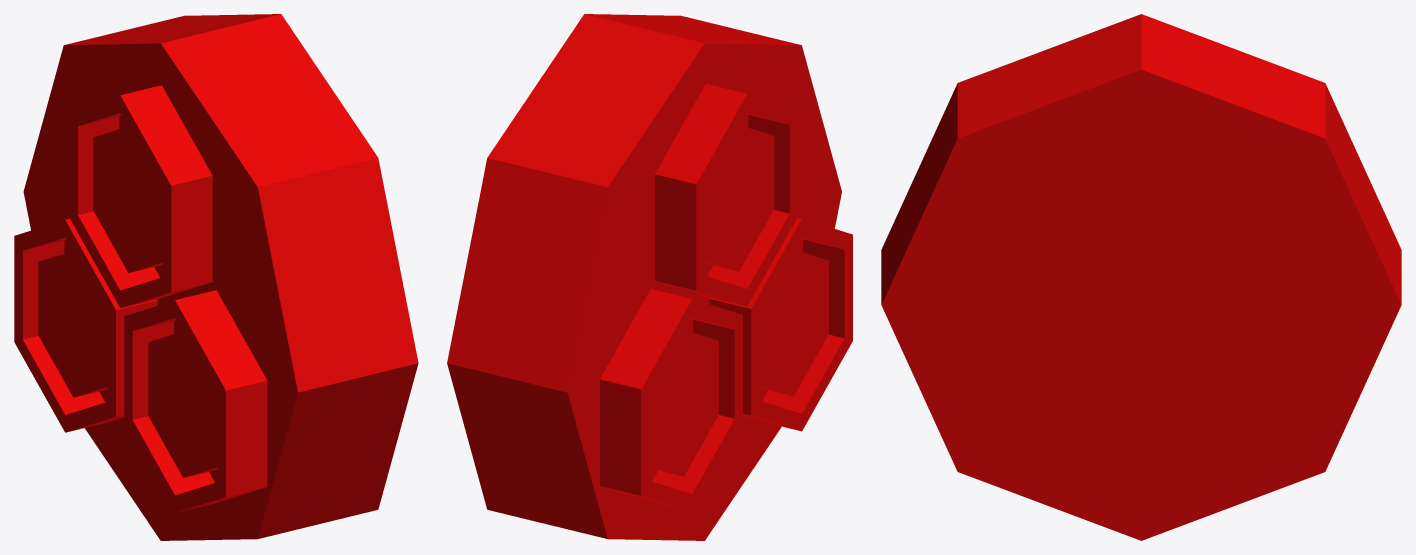
Rendered from outlet_l_1.glb.
The picture shows the model from 3 angles, left to right: view 1: azimuth 30°, elevation 25°; view 2: azimuth 150°, elevation 25°; view 3: azimuth 270°, elevation 25°; orthographic projection. The views are drawn at different scales.
Visible parts, largest first — view 1: Cylinder.021; view 2: Cylinder.021; view 3: Cylinder.021.
Part boxes in pixels (<box>): Cylinder.021: <box>14,14,418,540</box>; Cylinder.021: <box>447,14,852,540</box>; Cylinder.021: <box>881,14,1401,540</box>.
Bounding box in the file's own units: 0.1118 × 0.328 × 0.328.
